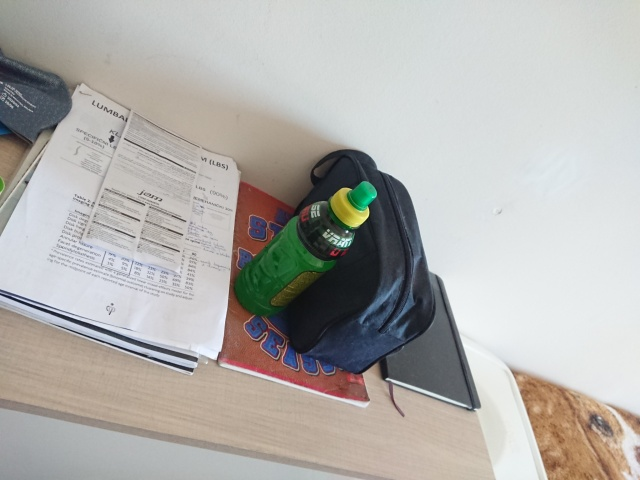Vindi Iso Sport Lemon-Grapefruit 500mL: (230, 178, 380, 320)
